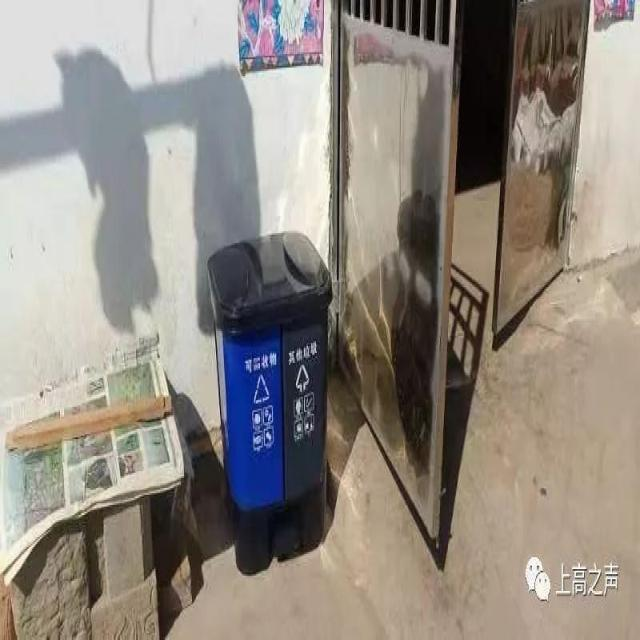garbage_bin: (205, 231, 331, 574)
